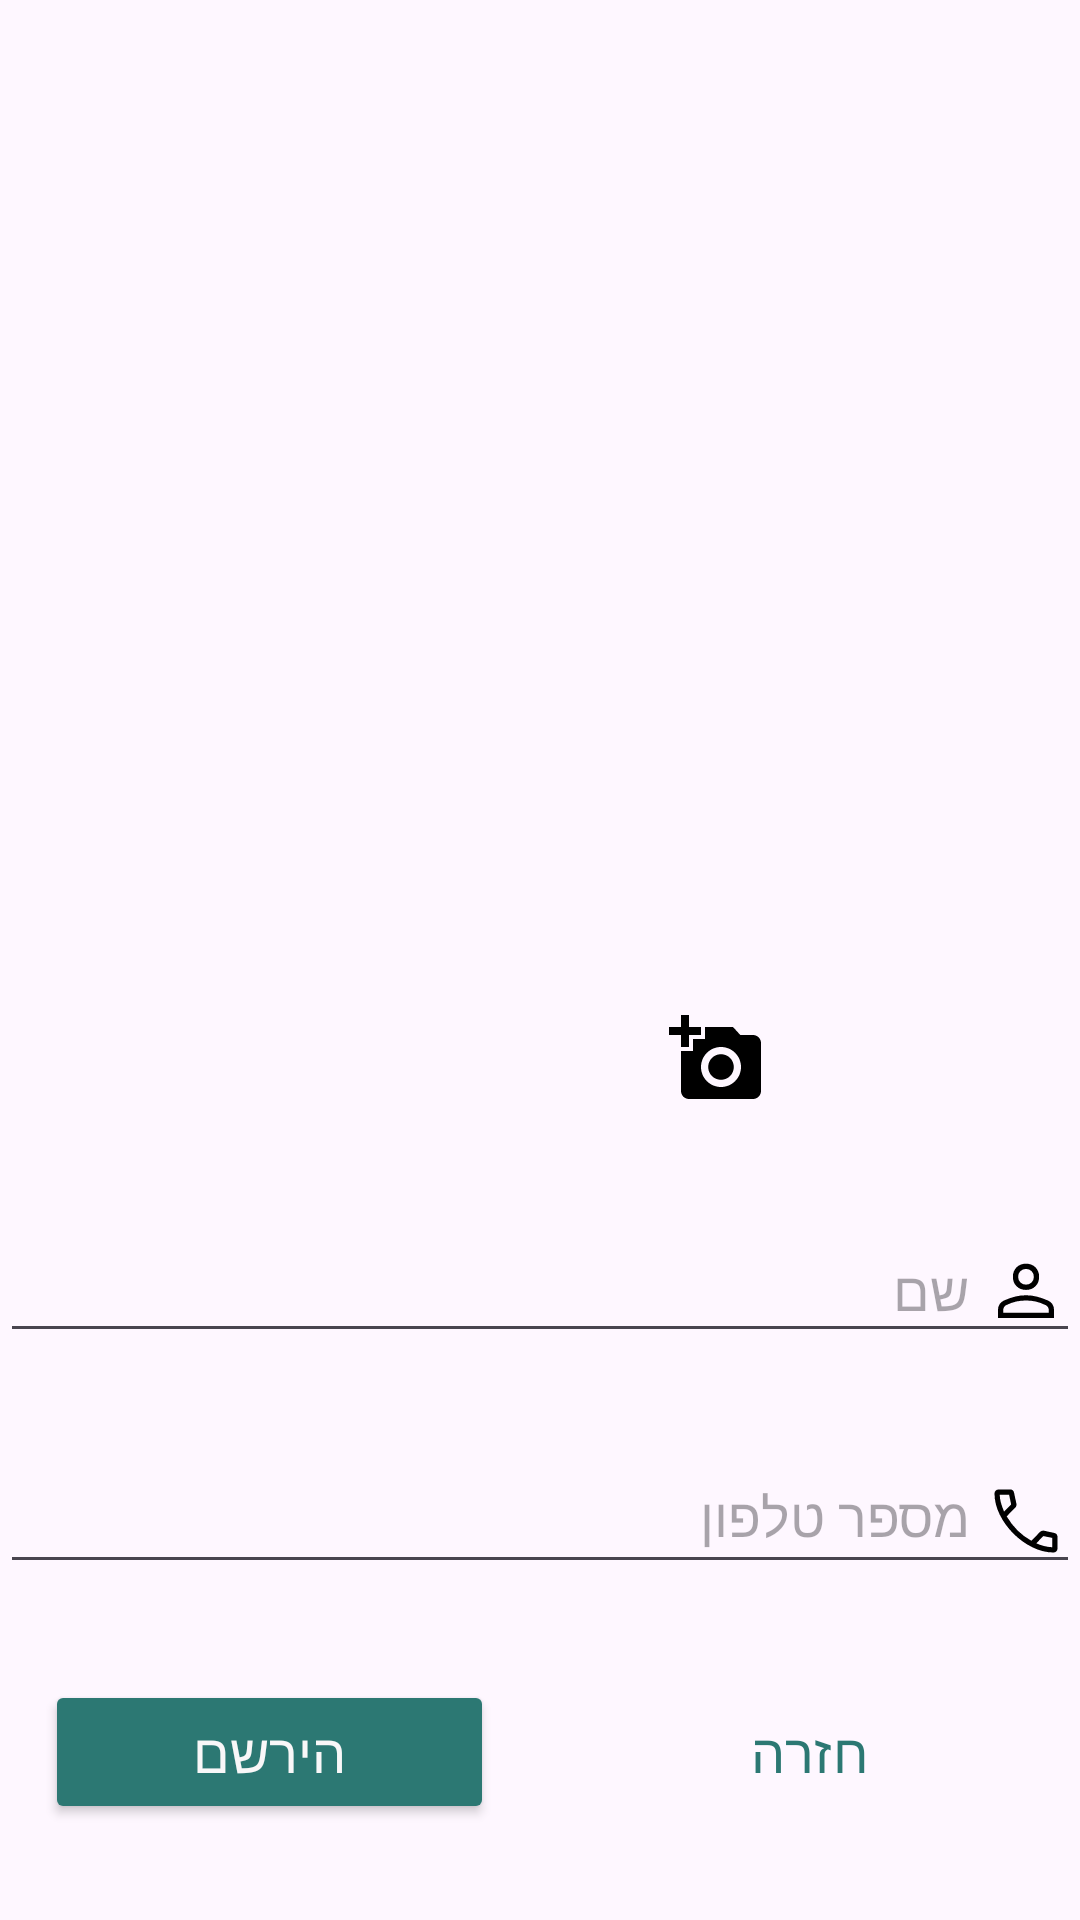

Icon click points for this 1080px×1920px phone screenshot, format point (x, y):
camera: point (715, 1057)
